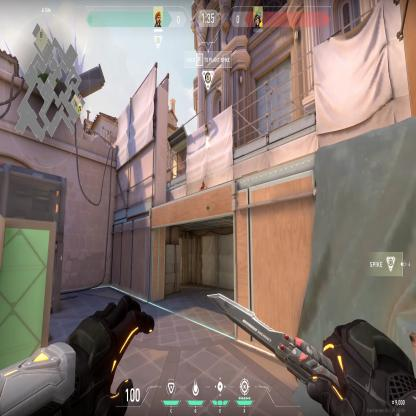enemy: (198, 179, 206, 190)
